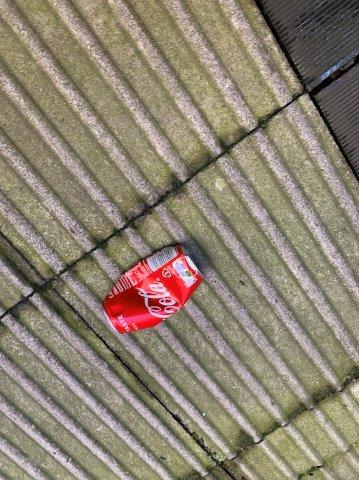kaleng: (104, 245, 204, 332)
